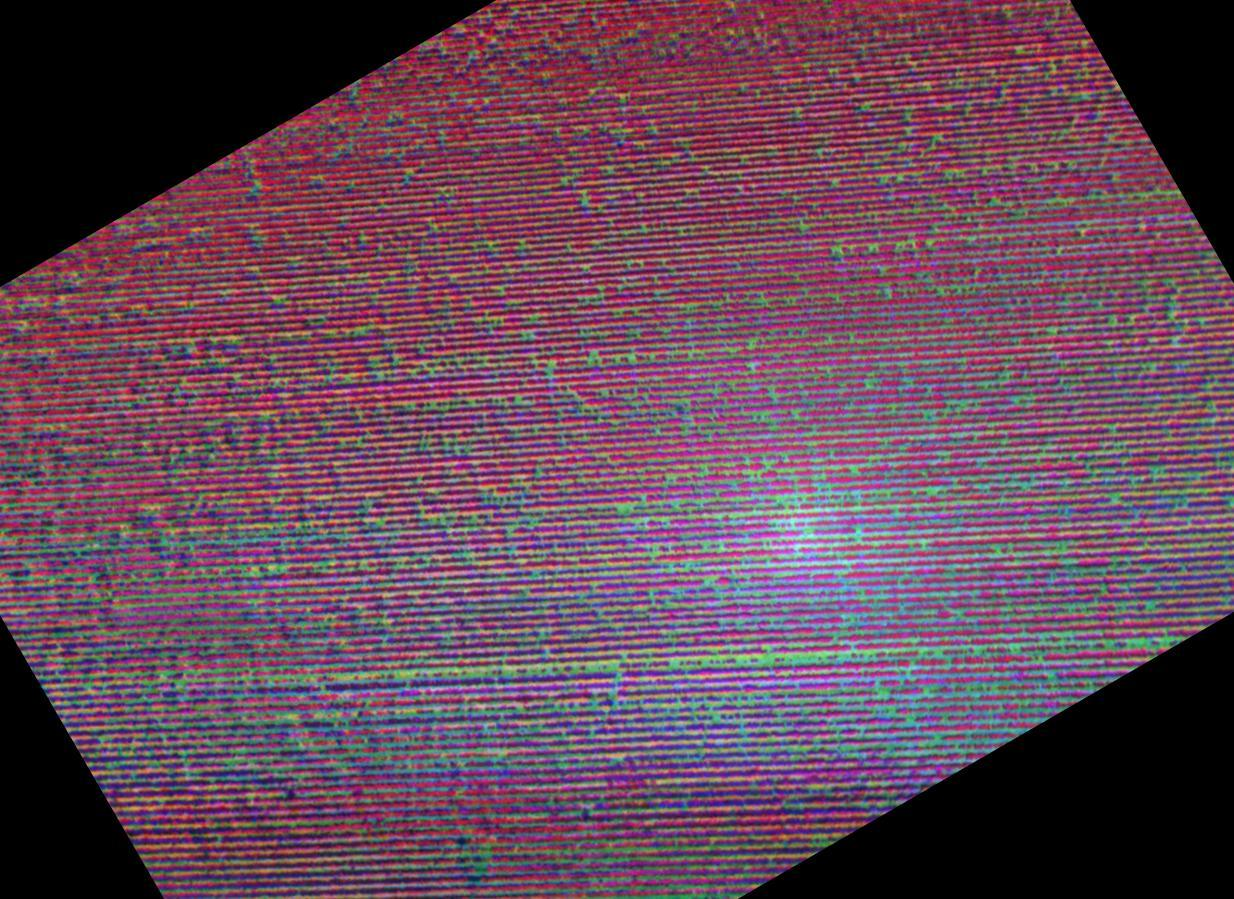dc: (431, 799, 539, 899), (197, 521, 325, 590), (759, 464, 854, 534)
